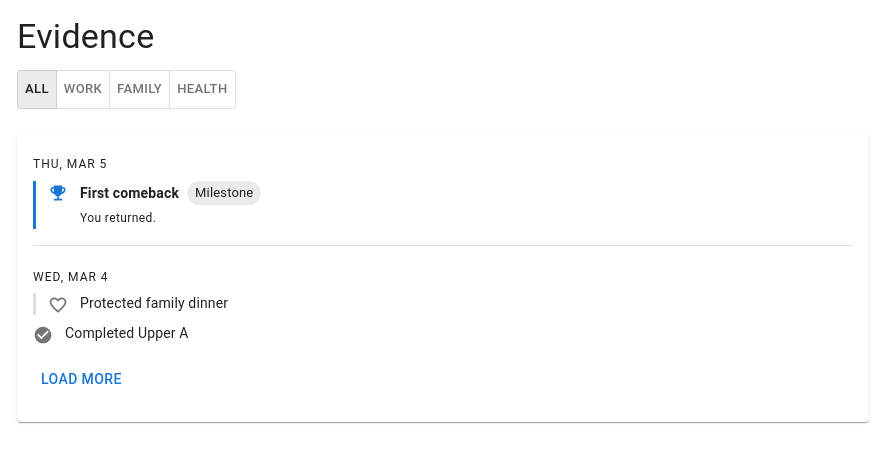
Test: ProgressTimelinePage (#117) › appends the next page rather than replacing it
This screenshot has width=887, height=475.
Expected: the heading "Evidence" is shown, [17, 16, 154, 56]
Expected: the text "Protected family dinner" is shown, [80, 293, 228, 313]
Click the button "Load more": (81, 380) [33, 361, 130, 398]
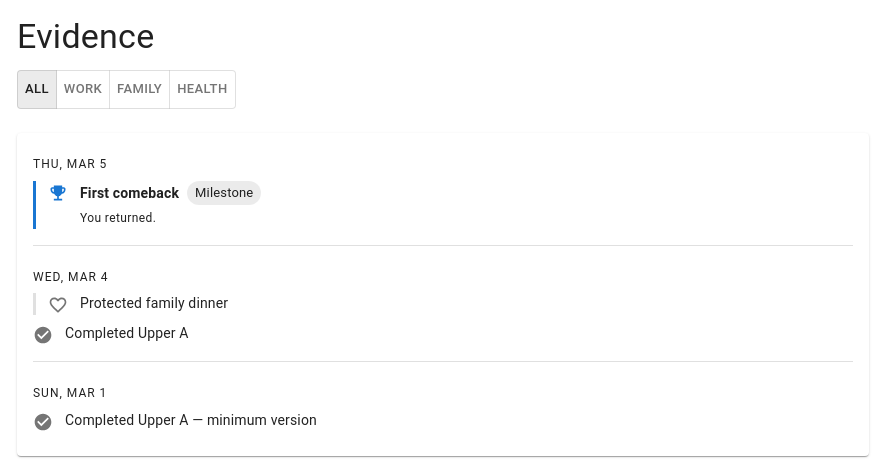
Expected: the text "Protected family dinner" is shown, [80, 293, 228, 313]
Result: the text "Completed Upper A — minimum version" is shown at [65, 410, 317, 430]
